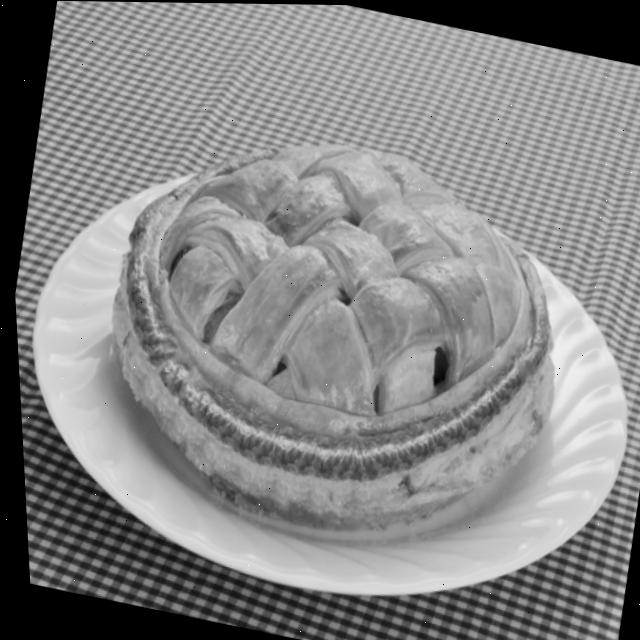炸货点心: (29, 67, 631, 608)
蛋糕甜品: (29, 67, 631, 608)
